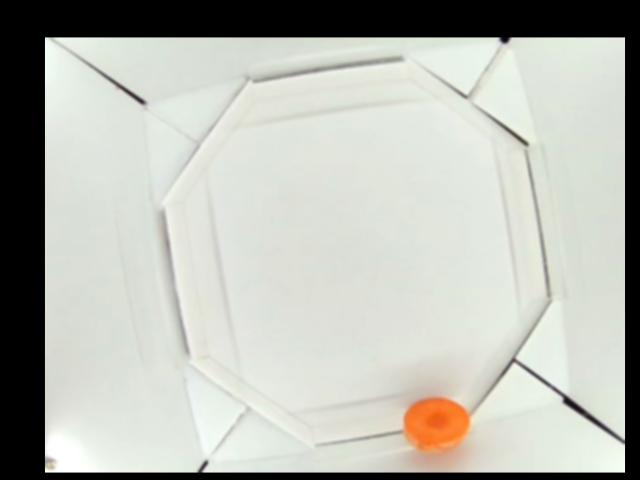Carrot: (402, 397, 470, 450)
